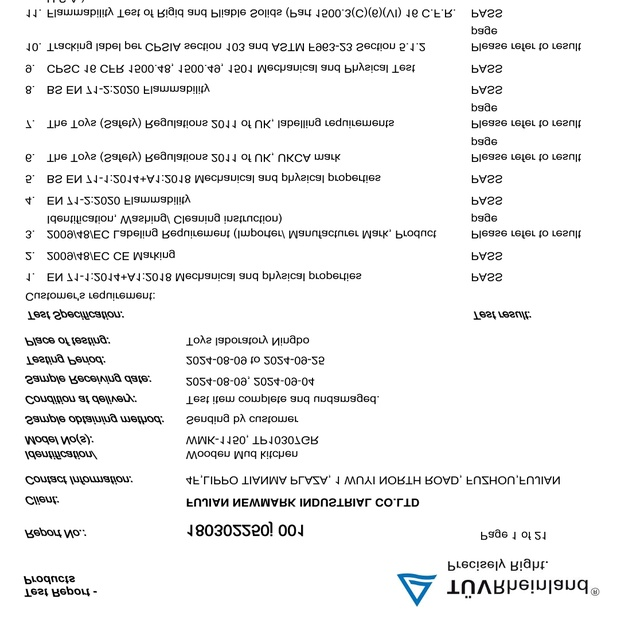tuv_rheinland: (395, 570, 603, 609)
